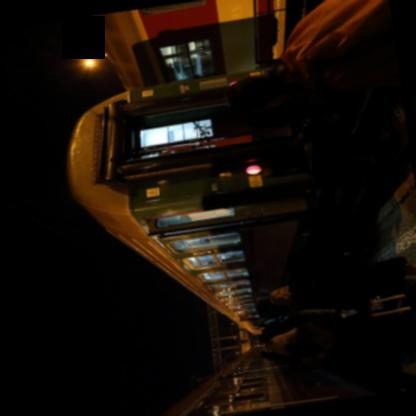suitcase: (369, 280, 416, 327)
